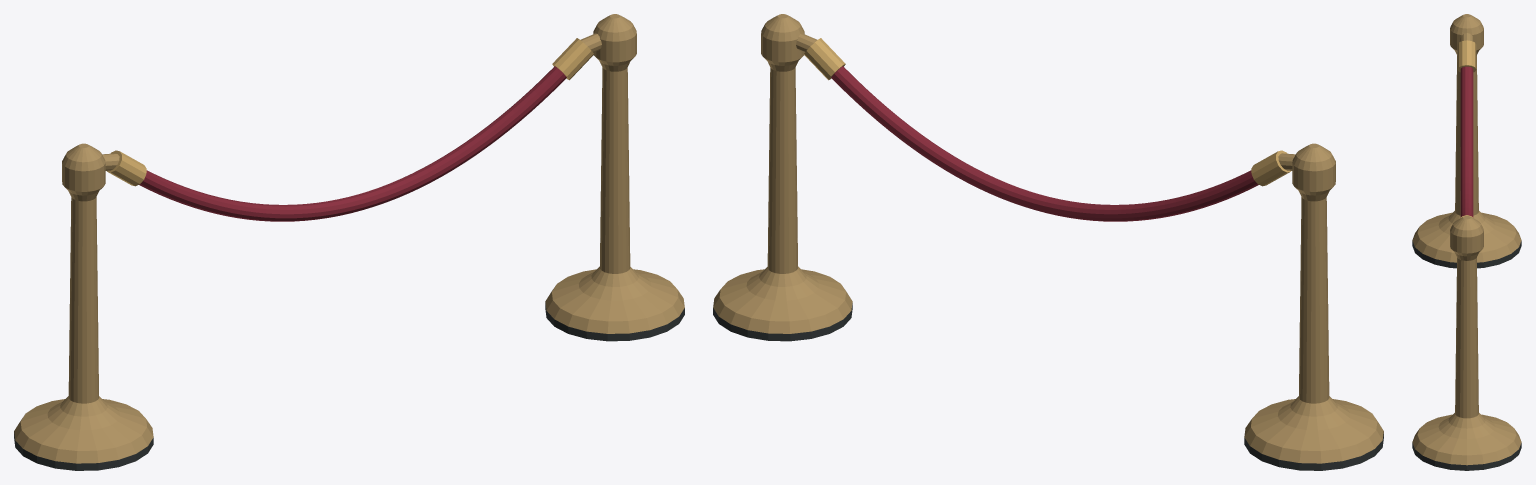
The picture shows the model from 3 angles, left to right: view 1: azimuth 30°, elevation 25°; view 2: azimuth 150°, elevation 25°; view 3: azimuth 270°, elevation 25°; orthographic projection. The views are drawn at different scales.
Visible parts, largest first — view 1: Stanchion_Left, Stanchion_Right, Rope_ContinuousSag, Ferrule_Right, Ferrule_Left; view 2: Stanchion_Left, Stanchion_Right, Rope_ContinuousSag, Ferrule_Right, Ferrule_Left; view 3: Stanchion_Right, Stanchion_Left, Rope_ContinuousSag, Ferrule_Left.
Part boxes in pixels (left/top/right/bottom): Stanchion_Left: left=14, top=143, right=153, bottom=470; Stanchion_Right: left=545, top=14, right=684, bottom=341; Rope_ContinuousSag: left=139, top=66, right=566, bottom=221; Ferrule_Right: left=552, top=38, right=593, bottom=80; Ferrule_Left: left=107, top=150, right=146, bottom=186; Stanchion_Left: left=1244, top=143, right=1383, bottom=470; Stanchion_Right: left=713, top=14, right=852, bottom=341; Rope_ContinuousSag: left=831, top=66, right=1258, bottom=221; Ferrule_Right: left=804, top=38, right=845, bottom=80; Ferrule_Left: left=1251, top=150, right=1290, bottom=186; Stanchion_Right: left=1412, top=216, right=1521, bottom=470; Stanchion_Left: left=1412, top=14, right=1521, bottom=268; Rope_ContinuousSag: left=1460, top=66, right=1473, bottom=217; Ferrule_Left: left=1457, top=40, right=1476, bottom=72.
Size of the model in its own units: 2.31 by 1 by 0.43.
